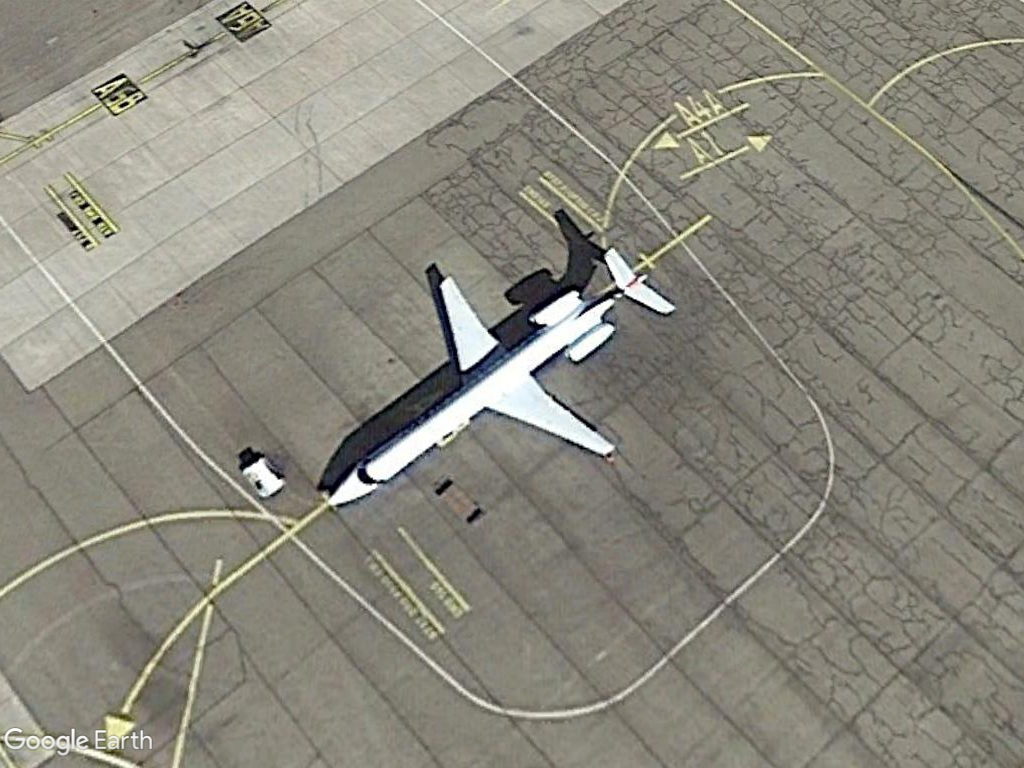chartered: (318, 212, 681, 532)
